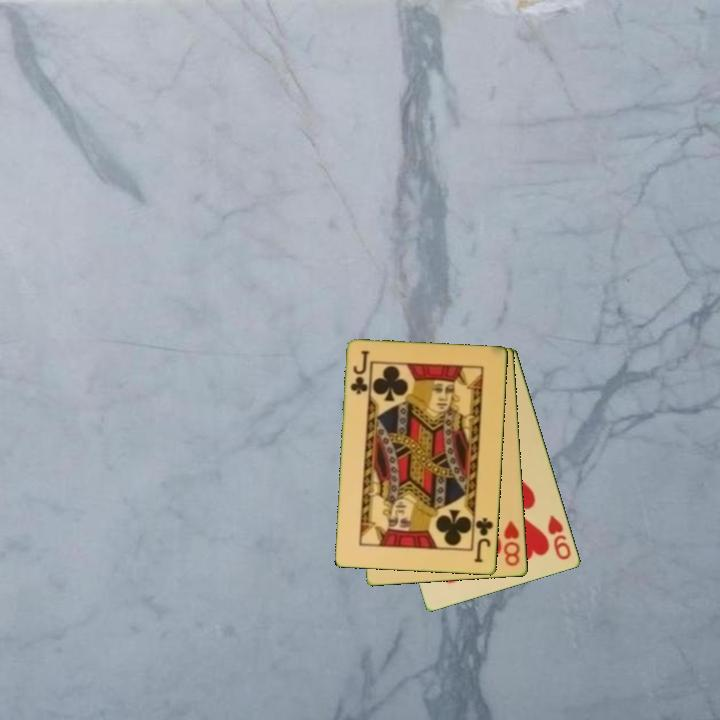8h: (500, 517, 523, 569)
9h: (544, 511, 574, 563)
Jc: (471, 514, 496, 566), (347, 347, 372, 397)
